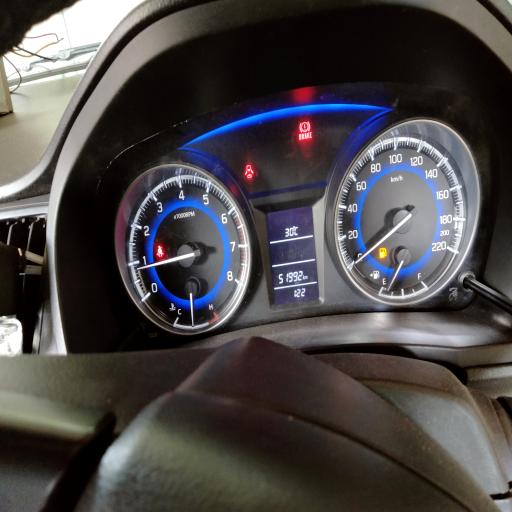belt: (157, 246, 164, 258)
brake_system_fault: (299, 121, 311, 133)
tachometer: (128, 173, 250, 330)
